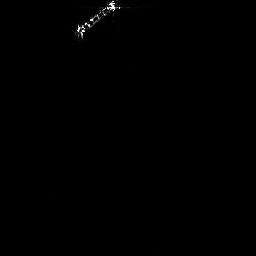ship: (73, 1, 121, 40)
